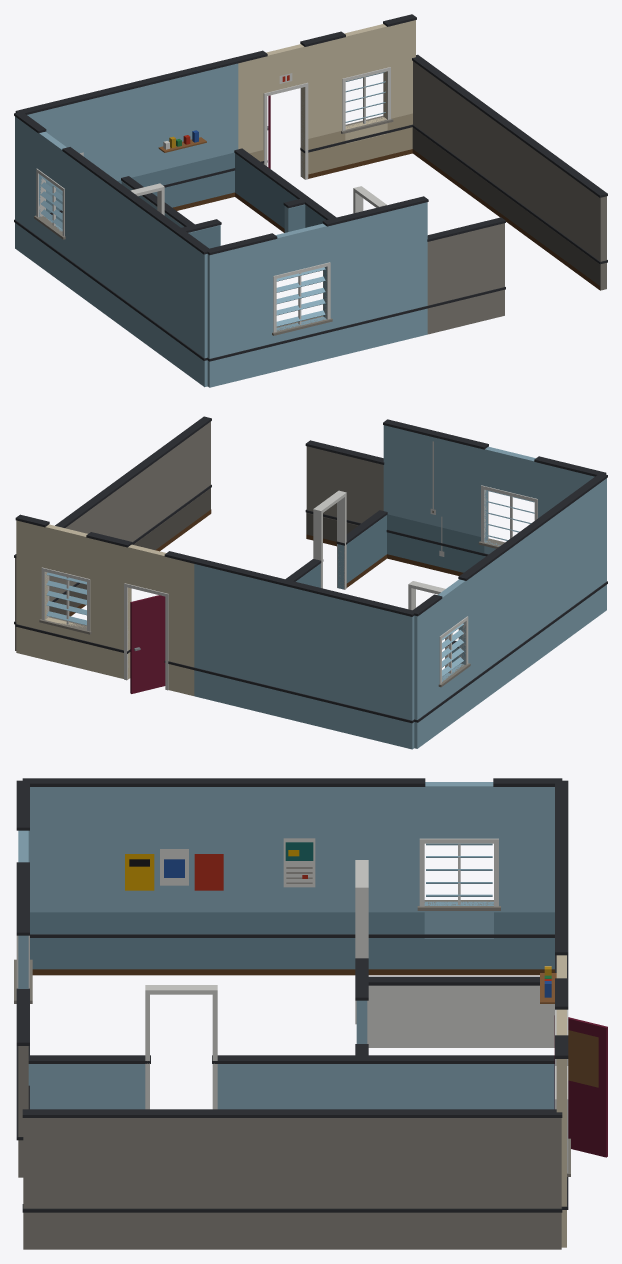
Rendered from building_home-room-house.b4ffc3295273.glb.
3 renders of one model, top to bottom at view 1: azimuth 30°, elevation 25°; view 2: azimuth 150°, elevation 25°; view 3: azimuth 270°, elevation 25°, orthographic. The views are drawn at different scales.
Parts seen in each view (by area): view 1: wall_front_full, wall_back_full, wall_left_full, wall_right_full, body, wall_back_low, wall_right_low, wall_left_low, wall_front_low; view 2: wall_back_full, wall_left_full, wall_front_full, wall_right_full, wall_back_low, body, wall_front_low, wall_right_low, wall_left_low; view 3: wall_left_full, wall_right_full, body, wall_right_low, wall_left_low, wall_back_full, wall_front_full.
Part boxes in pixels (x1=…): wall_front_full: x1=207, y1=196, x2=505, y2=387; wall_back_full: x1=15, y1=14, x2=416, y2=212; wall_left_full: x1=14, y1=112, x2=211, y2=387; wall_right_full: x1=412, y1=54, x2=607, y2=290; body: x1=121, y1=148, x2=386, y2=248; wall_back_low: x1=50, y1=82, x2=412, y2=222; wall_right_low: x1=412, y1=125, x2=607, y2=290; wall_left_low: x1=14, y1=219, x2=207, y2=386; wall_front_low: x1=207, y1=287, x2=505, y2=385; wall_back_full: x1=15, y1=514, x2=416, y2=749; wall_left_full: x1=413, y1=473, x2=607, y2=748; wall_front_full: x1=305, y1=419, x2=606, y2=575; wall_right_full: x1=14, y1=416, x2=211, y2=650; wall_back_low: x1=15, y1=583, x2=414, y2=749; body: x1=285, y1=490, x2=458, y2=667; wall_front_low: x1=305, y1=509, x2=488, y2=575; wall_right_low: x1=14, y1=484, x2=211, y2=624; wall_left_low: x1=414, y1=581, x2=607, y2=748; wall_left_full: x1=22, y1=778, x2=562, y2=975; wall_right_full: x1=22, y1=1109, x2=562, y2=1249; body: x1=28, y1=860, x2=554, y2=1109; wall_right_low: x1=22, y1=1204, x2=562, y2=1249; wall_left_low: x1=30, y1=934, x2=554, y2=975; wall_back_full: x1=540, y1=780, x2=607, y2=1247; wall_front_full: x1=14, y1=780, x2=32, y2=1177.
Bounding box in the file's own units: 9.58 × 3.05 × 8.55.
